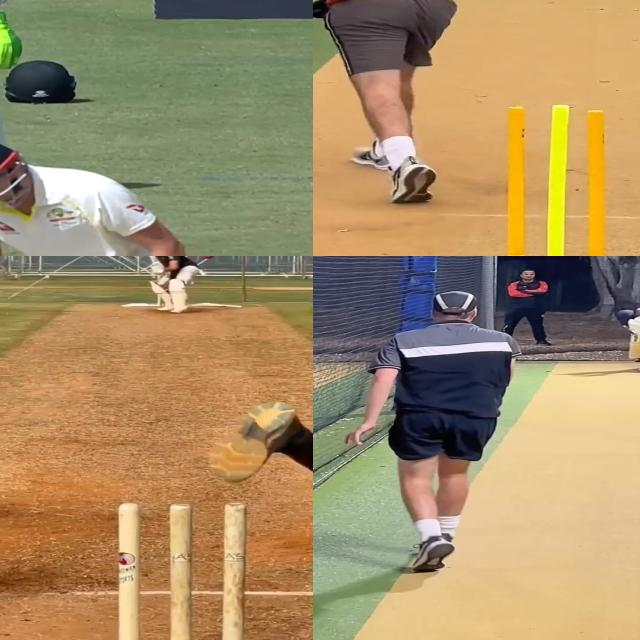Cricket ball: (198, 256, 215, 260)
Stumps: (484, 103, 624, 256), (111, 501, 251, 640)
